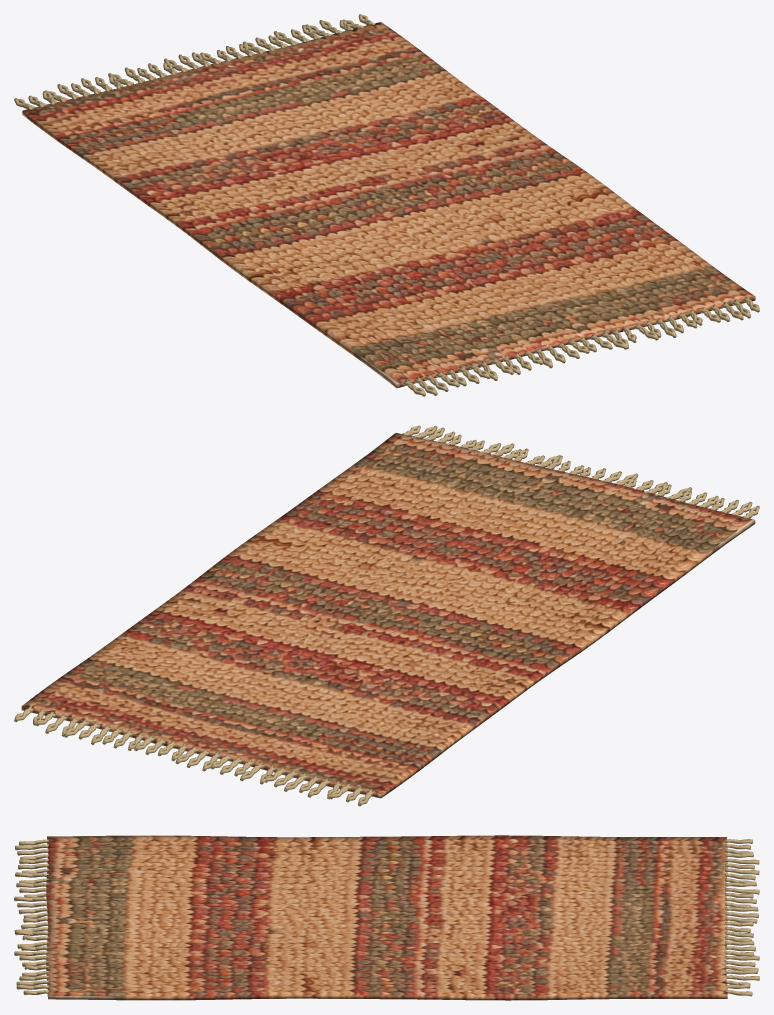
The model's file is first-rug.glb.
3 views of the same model, one above another, from view 1: azimuth 30°, elevation 25°; view 2: azimuth 150°, elevation 25°; view 3: azimuth 270°, elevation 25° (orthographic). The views are drawn at different scales.
Visible parts, largest first — view 1: Woven rag ground, Knotted warp ends; view 2: Woven rag ground, Knotted warp ends; view 3: Woven rag ground, Knotted warp ends.
Part boxes in pixels (left/top/right/bottom): Woven rag ground: left=22, top=22, right=755, bottom=388; Knotted warp ends: left=14, top=14, right=759, bottom=396; Woven rag ground: left=21, top=433, right=755, bottom=798; Knotted warp ends: left=14, top=425, right=759, bottom=806; Woven rag ground: left=46, top=835, right=727, bottom=1000; Knotted warp ends: left=14, top=839, right=759, bottom=996.
Size of the model in its own units: 0.7214 by 0.0158 by 1.43.
Materials: 2 (2 with a texture image).
